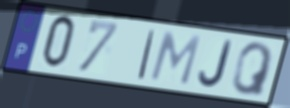0: (39, 13, 78, 74)
7: (77, 18, 121, 76)
I: (135, 28, 157, 82)
J: (197, 39, 235, 90)
M: (147, 30, 203, 88)
Q: (230, 41, 275, 98)
